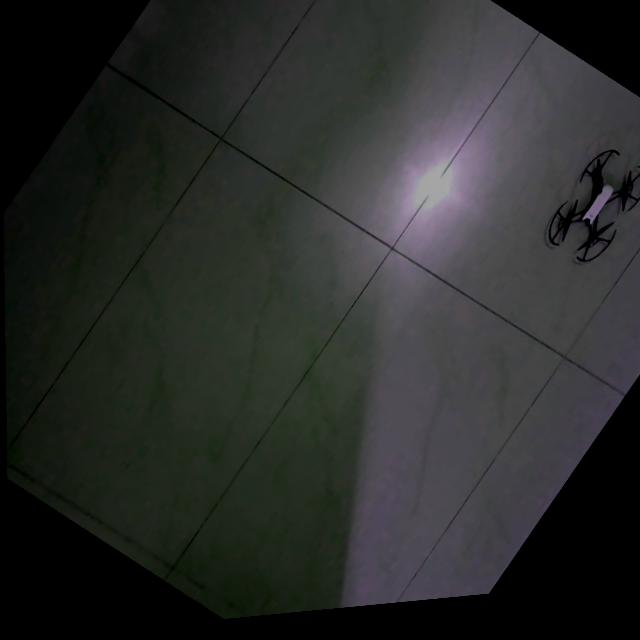drone: (546, 161, 640, 275)
